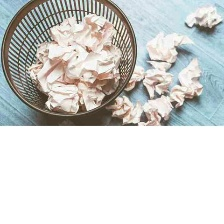book: (21, 10, 127, 118), (171, 55, 211, 109), (141, 27, 199, 60), (137, 91, 179, 130), (100, 94, 147, 126), (142, 59, 174, 100), (181, 1, 224, 31), (121, 61, 145, 90)
